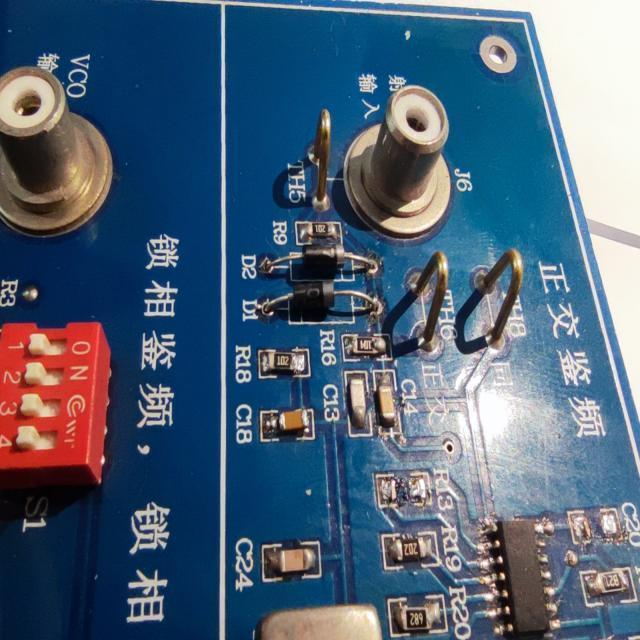Missing component: (370, 462, 458, 514), (562, 502, 640, 549)
